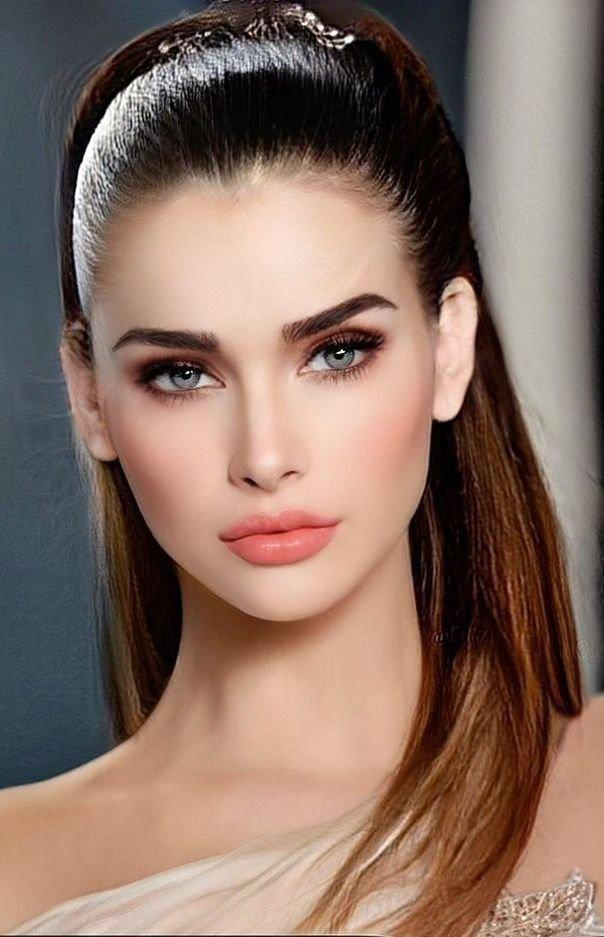Sober: (111, 168, 426, 581)
